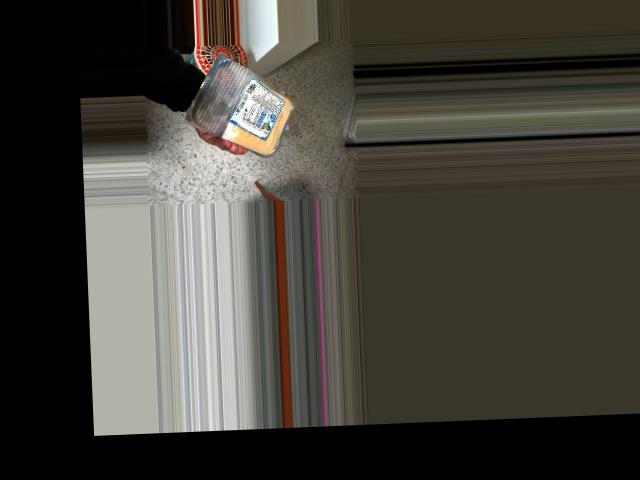cheese: (190, 54, 303, 149)
